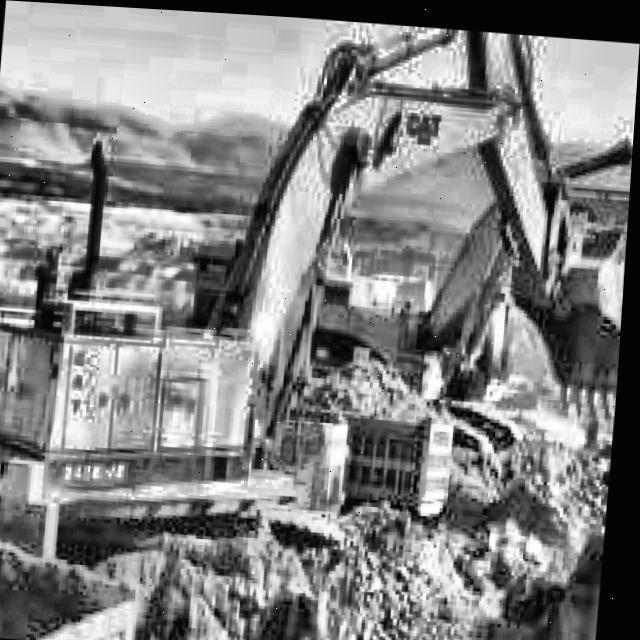dump_truck: (351, 413, 464, 509), (296, 401, 349, 509)
excavator: (0, 0, 640, 617), (304, 80, 637, 383)
